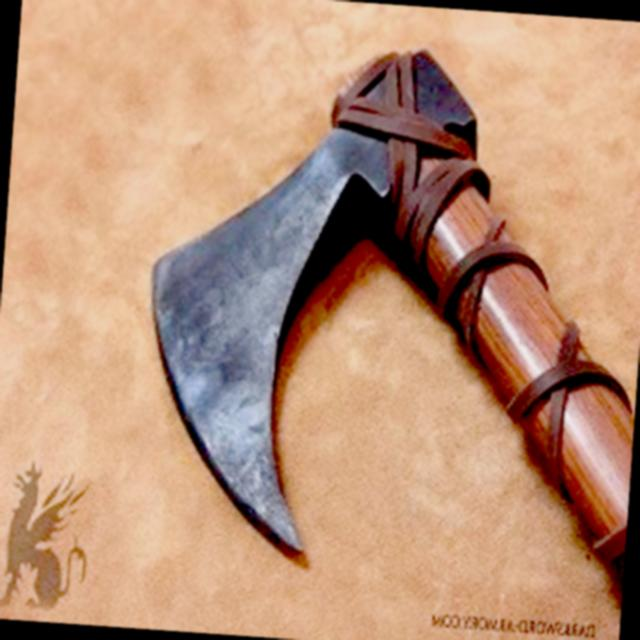ax: (114, 17, 640, 611)
